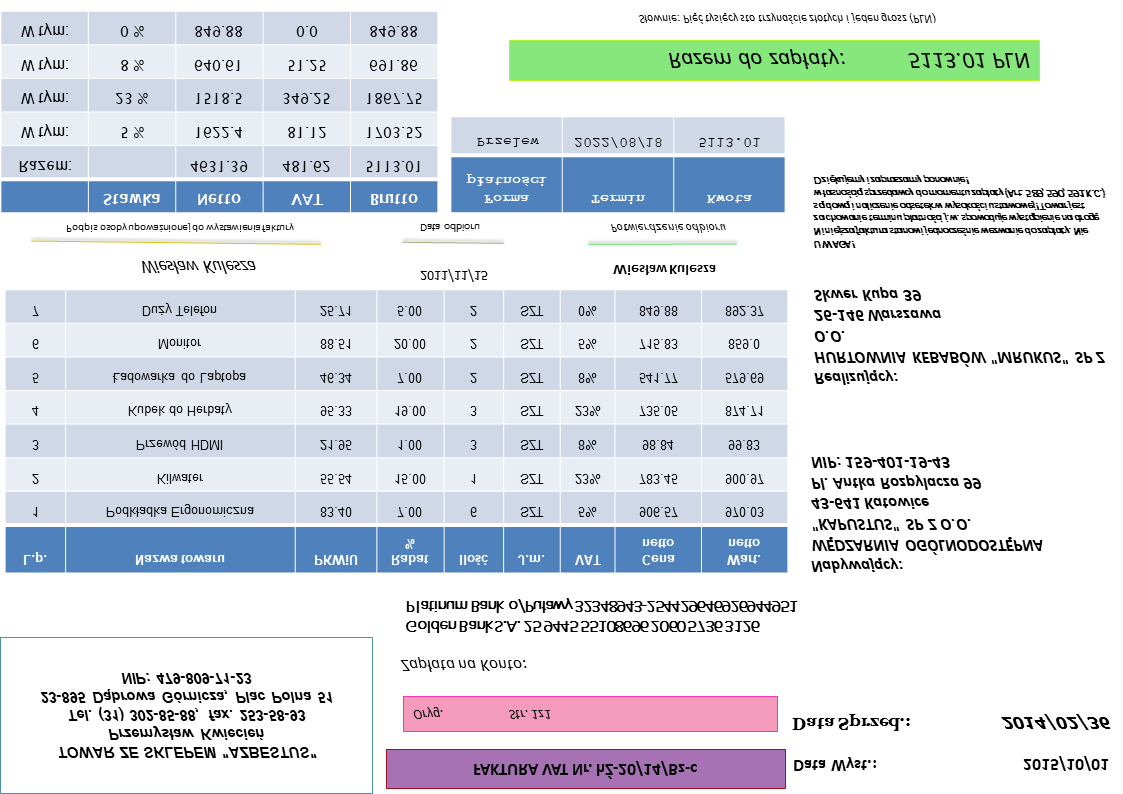Table: (4, 291, 787, 576), (1, 11, 438, 214), (449, 116, 786, 214)
TextBox: (812, 286, 1107, 389), (809, 452, 1048, 575), (37, 668, 337, 761), (810, 173, 1109, 252), (404, 597, 801, 636), (665, 49, 1032, 74), (472, 758, 700, 782), (637, 10, 938, 27), (64, 221, 296, 237), (397, 654, 529, 676), (791, 711, 914, 733), (138, 256, 259, 278), (1000, 710, 1112, 733), (410, 707, 553, 723), (610, 261, 719, 280), (608, 220, 728, 236), (1021, 755, 1110, 774), (792, 755, 879, 774), (417, 266, 490, 285), (417, 221, 480, 235)
